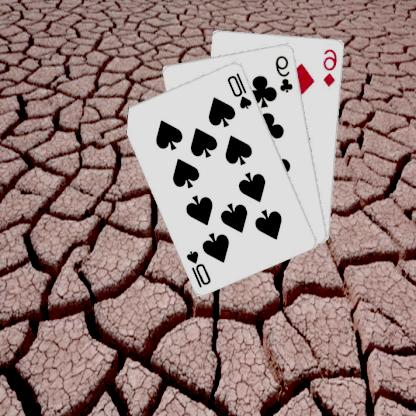10S: (226, 69, 255, 110), (186, 247, 214, 289)
6D: (323, 46, 340, 88)
9C: (275, 53, 296, 94)
